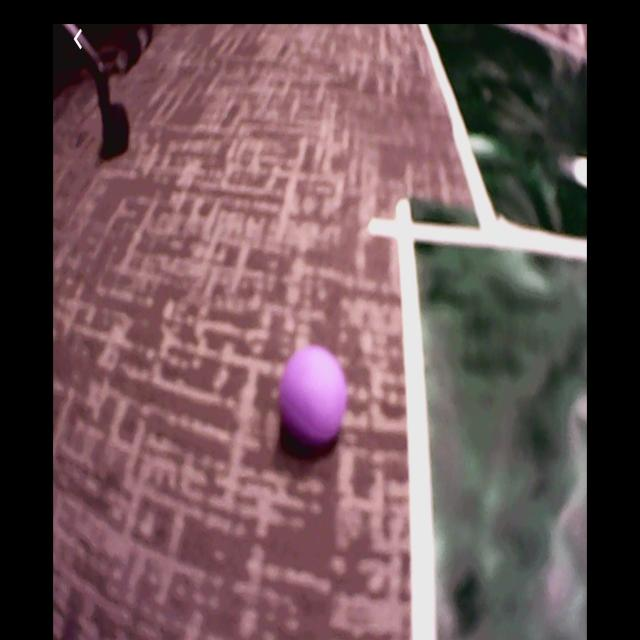ball: (278, 343, 349, 454)
